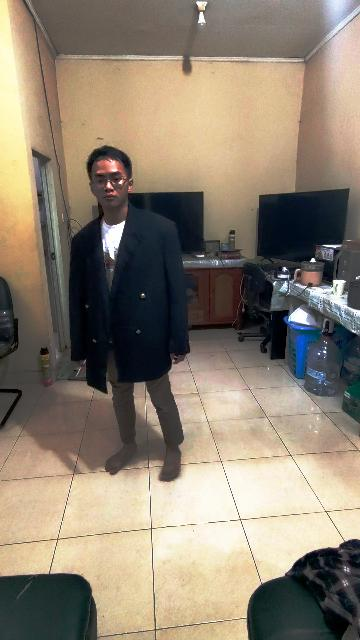berdiri: (66, 149, 192, 477)
